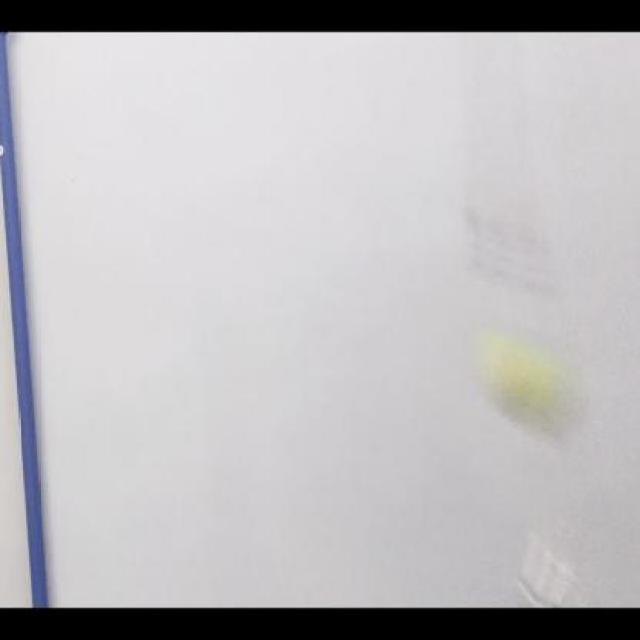baseball: (482, 334, 578, 438)
